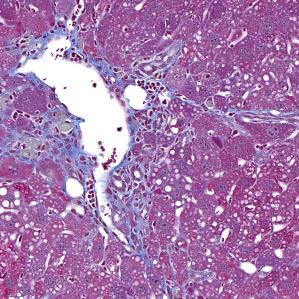fibrosis: (19, 109, 96, 181), (113, 157, 165, 232)
